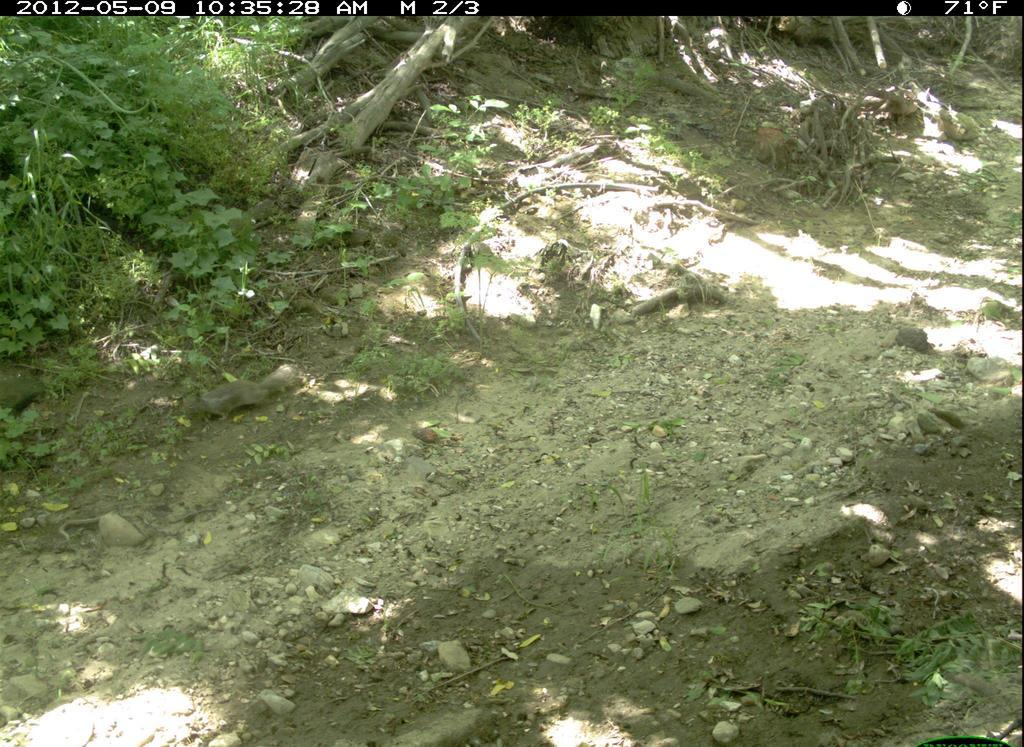squirrel: (180, 360, 301, 433)
